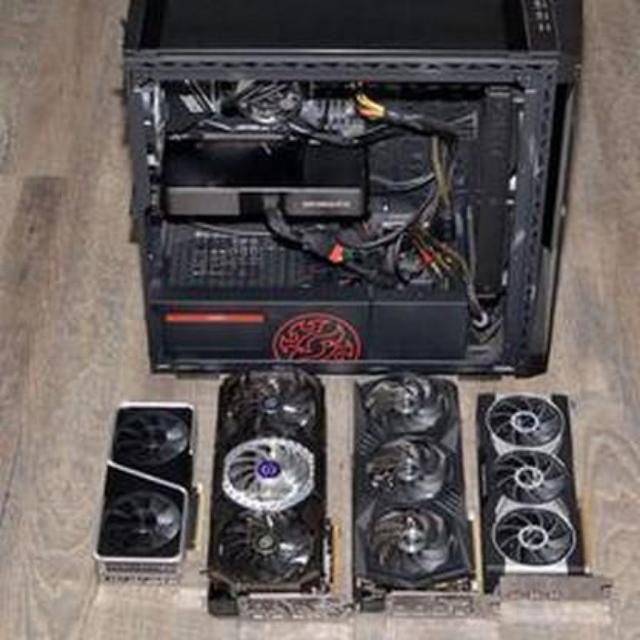GPU: (210, 367, 338, 618), (353, 370, 478, 624), (476, 378, 588, 604), (98, 380, 184, 605), (160, 138, 377, 226)
